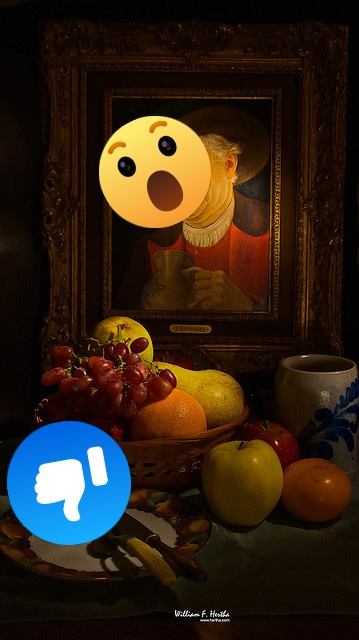like: (7, 421, 131, 545)
wow: (99, 116, 211, 228)
